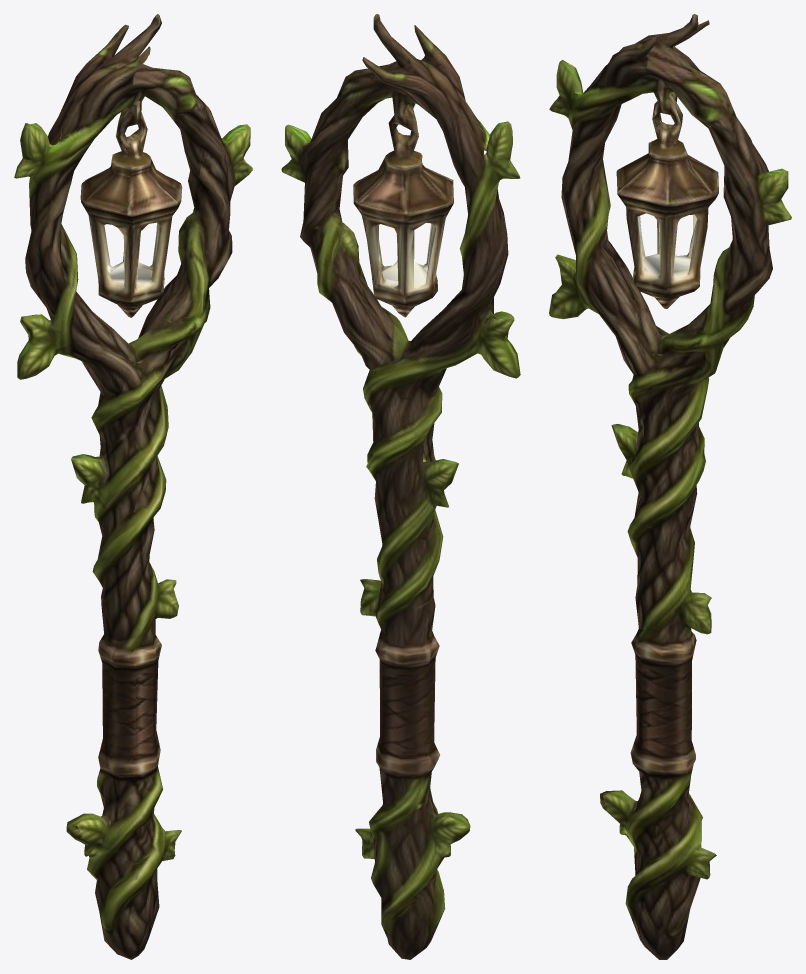
Rendered from 1038_wand.glb.
3 views of the same model, side by side, from view 1: azimuth 30°, elevation 25°; view 2: azimuth 150°, elevation 25°; view 3: azimuth 330°, elevation 25° (orthographic).
Parts seen in each view (by area): view 1: Model; view 2: Model; view 3: Model.
Boxes of the visible parts, x1,y1,x2,y2 form: Model: (14,14,252,959); Model: (281,14,520,959); Model: (549,14,791,959).
Size of the model in its own units: 0.2662 by 1 by 0.0959.
Materials: 1 (1 with a texture image).
